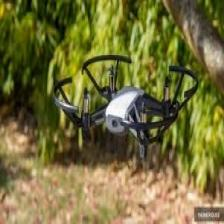drone: (52, 53, 198, 149)
